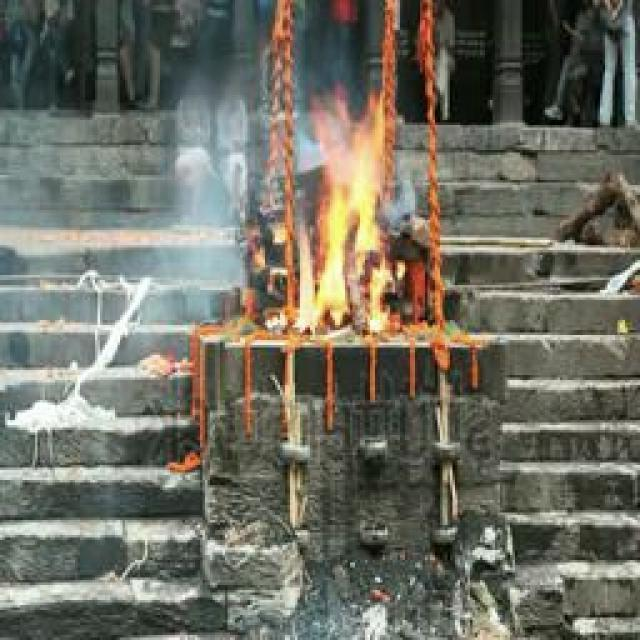Fire: (290, 103, 395, 329)
